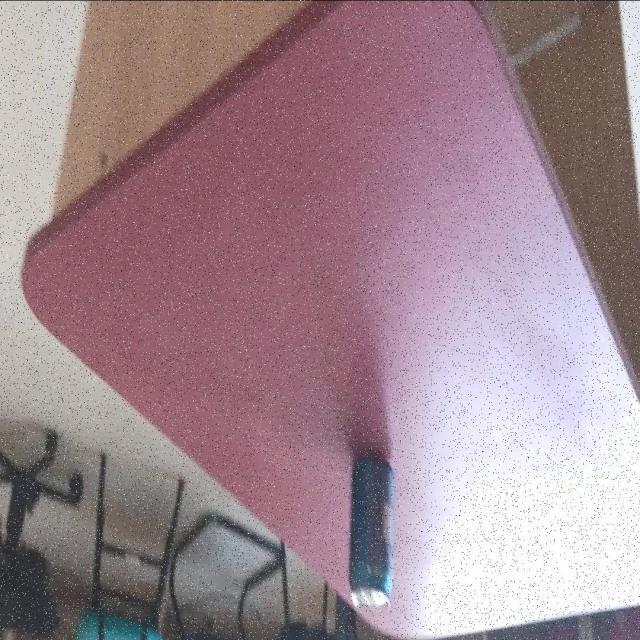Tonic: (18, 0, 640, 640), (346, 452, 395, 608), (73, 608, 164, 640)
